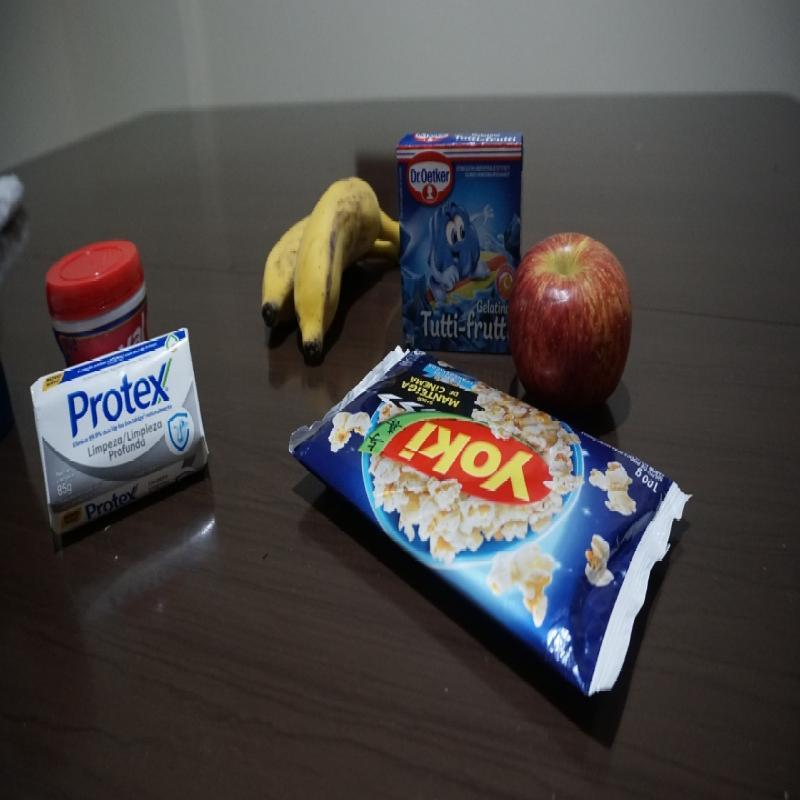Apple: (509, 231, 635, 412)
Banana: (260, 174, 403, 368)
Gelatine: (395, 128, 532, 358)
Popcorn: (285, 341, 696, 701)
Soap: (28, 323, 212, 536)
Yeast: (41, 236, 156, 377)
